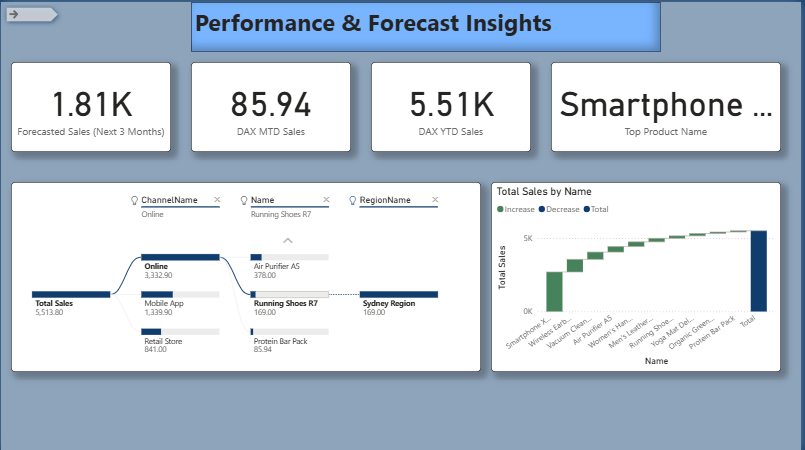

The page's visual inventory and layout, read from the dashboard file:
{"tool":"powerbi","page":{"name":"Forecast Insights","canvas":[1280,720],"ordinal":2},"visuals":[{"type":"textbox","box":[304,0,752,80],"z":0},{"type":"card","fields":{"Values":["dim_channel.Forecasted Sales (Next 3 Months)"]},"box":[16,96,256,144],"z":1000},{"type":"card","fields":{"Values":["dim_channel.DAX MTD Sales"]},"box":[304,96,256,144],"z":2000},{"type":"card","fields":{"Values":["dim_channel.DAX YTD Sales"]},"box":[592,96,256,144],"z":3000},{"type":"card","fields":{"Values":["dim_channel.Top Product Name"]},"box":[880,96,368,144],"z":4000},{"type":"decompositionTreeVisual","fields":{"Analyze":["dim_fact.Total Sales"],"ExplainBy":["dim_channel.ChannelName","dim_product.Name","dim_region.RegionName"]},"box":[16,288,752,304],"z":5000},{"type":"waterfallChart","fields":{"Category":["dim_product.Name"],"Y":["dim_fact.Total Sales"]},"box":[784,288,464,304],"z":6000},{"type":"actionButton","box":[0,0,100,40],"z":7000}]}

Visuals, with their boxes in screenshot pixels (x1, y1, x2, y2), scaled from the page's 1280x720 canvas onto the 805x450 screenshot:
textbox: [left=191, top=0, right=664, bottom=50]
card - dim_channel.Forecasted Sales (Next 3 Months): [left=10, top=60, right=171, bottom=150]
card - dim_channel.DAX MTD Sales: [left=191, top=60, right=352, bottom=150]
card - dim_channel.DAX YTD Sales: [left=372, top=60, right=533, bottom=150]
card - dim_channel.Top Product Name: [left=553, top=60, right=785, bottom=150]
decompositionTreeVisual - dim_fact.Total Sales x dim_channel.ChannelName: [left=10, top=180, right=483, bottom=370]
waterfallChart - dim_product.Name x dim_fact.Total Sales: [left=493, top=180, right=785, bottom=370]
actionButton: [left=0, top=0, right=63, bottom=25]
